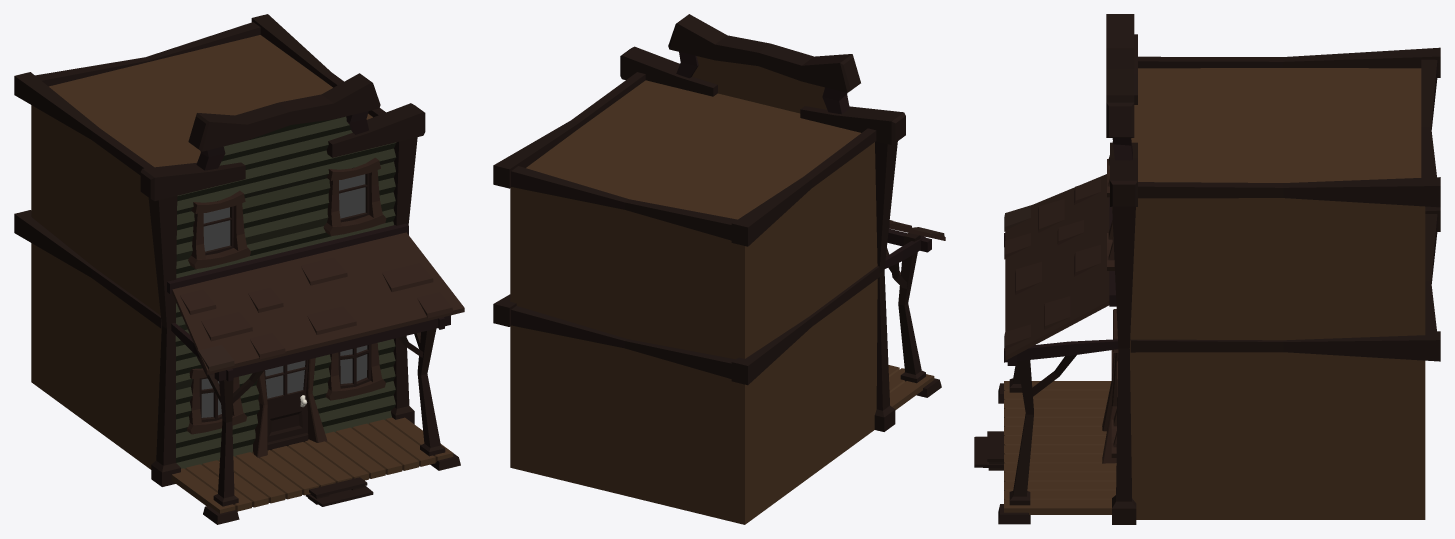
The model's file is Building03.fbx.
The picture shows the model from 3 angles, left to right: view 1: azimuth 30°, elevation 25°; view 2: azimuth 150°, elevation 25°; view 3: azimuth 270°, elevation 25°; orthographic projection. The views are drawn at different scales.
Parts seen in each view (by area): view 1: Cube.048; view 2: Cube.048; view 3: Cube.048.
Part boxes in pixels (x1=…): Cube.048: x1=14, y1=14, x2=464, y2=524; Cube.048: x1=493, y1=14, x2=945, y2=524; Cube.048: x1=974, y1=14, x2=1440, y2=524.
Size of the model in its own units: 564 by 703 by 743.
